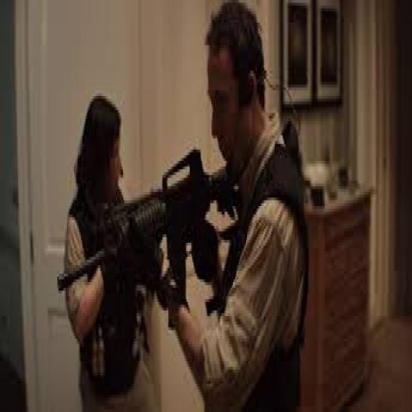Gun: (57, 142, 234, 344)
